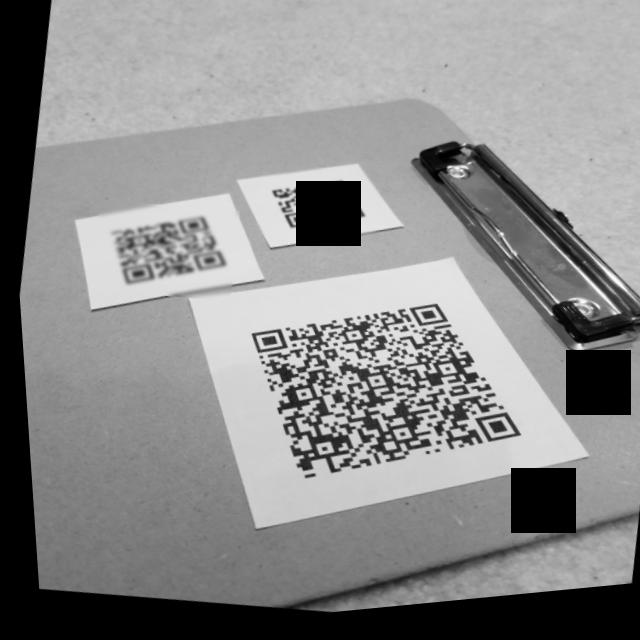QR_CODE: (199, 258, 549, 535), (81, 191, 240, 315), (249, 159, 381, 258)
